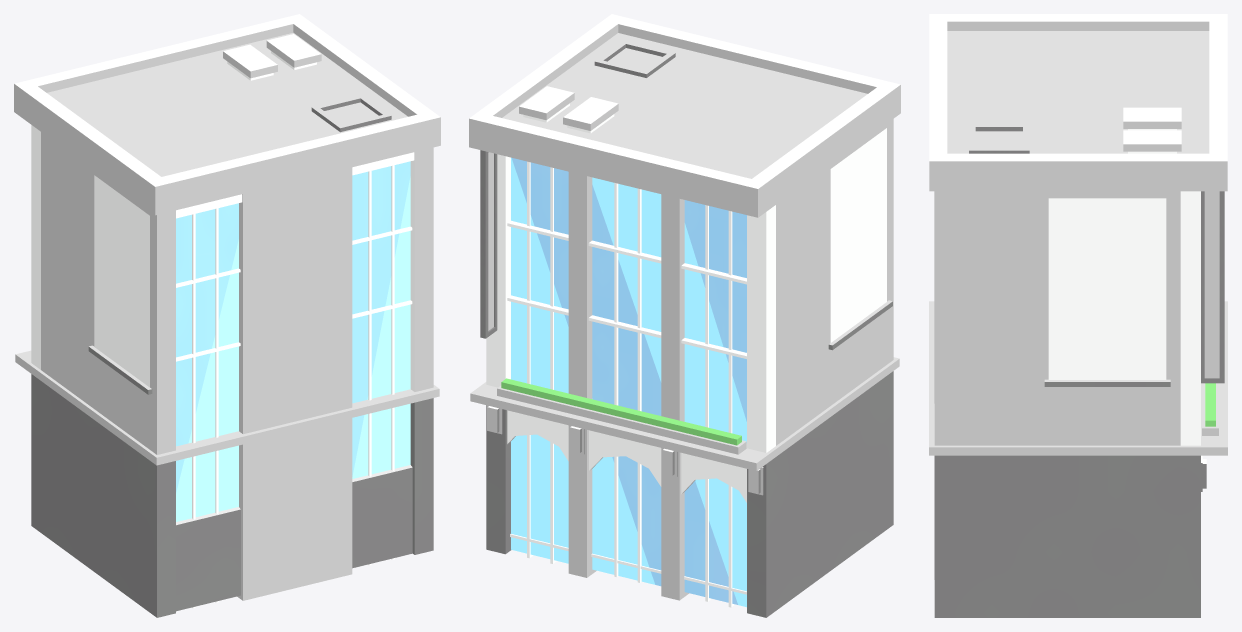
The model's file is hotel.006.glb.
The picture shows the model from 3 angles, left to right: view 1: azimuth 30°, elevation 25°; view 2: azimuth 150°, elevation 25°; view 3: azimuth 270°, elevation 25°; orthographic projection. The views are drawn at different scales.
Visible parts, largest first — view 1: hotel.006(Clone); view 2: hotel.006(Clone); view 3: hotel.006(Clone).
Part boxes in pixels (box(x1,y1,x2,y2)): hotel.006(Clone): box(14, 14, 440, 617); hotel.006(Clone): box(469, 14, 900, 617); hotel.006(Clone): box(929, 14, 1227, 617).
Size of the model in its own units: 5.97 by 8.79 by 5.11.
1 material, 1 textured.
